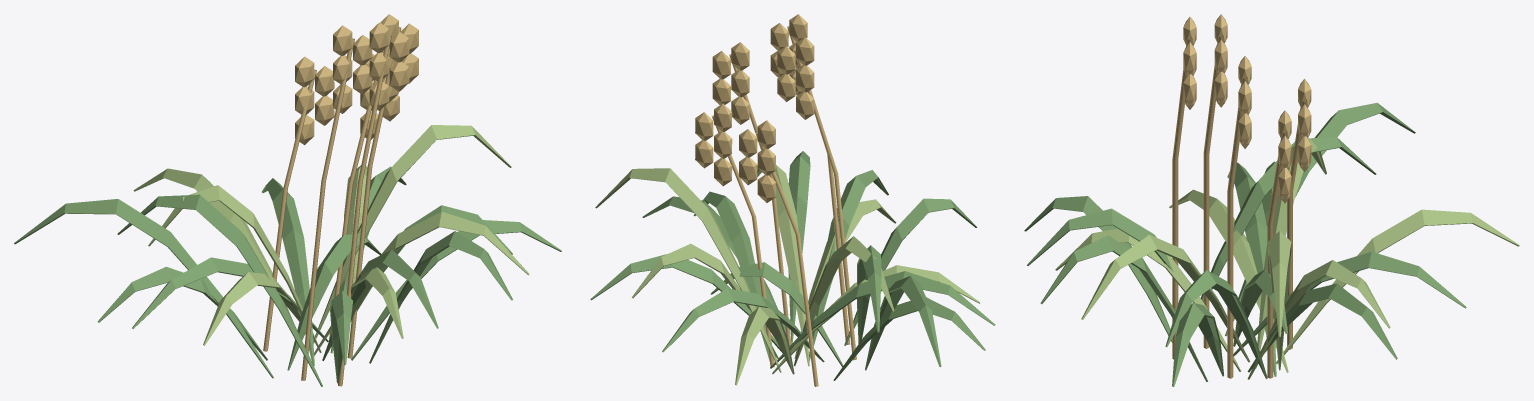
Rendered from dune_grass.glb.
3 renders of one model, left to right at view 1: azimuth 30°, elevation 25°; view 2: azimuth 150°, elevation 25°; view 3: azimuth 270°, elevation 25°, orthographic. The views are drawn at different scales.
Visible parts, largest first — view 1: dune_grass; view 2: dune_grass; view 3: dune_grass.
Part boxes in pixels (box(x1,y1,x2,y2)): dune_grass: box(14, 14, 561, 386); dune_grass: box(590, 14, 995, 386); dune_grass: box(1024, 14, 1519, 386).
Size of the model in its own units: 1.08 by 0.8277 by 1.01.
